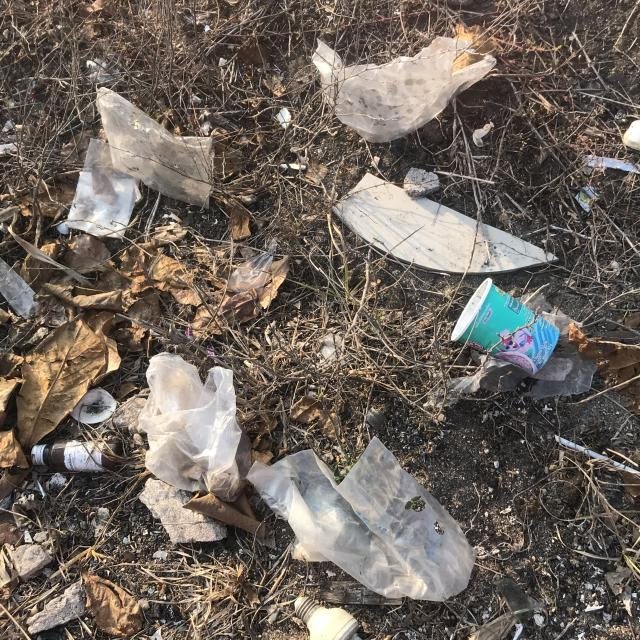Single-layer Plastic: (248, 438, 476, 601), (312, 24, 496, 142), (96, 88, 214, 208), (65, 139, 140, 238)
